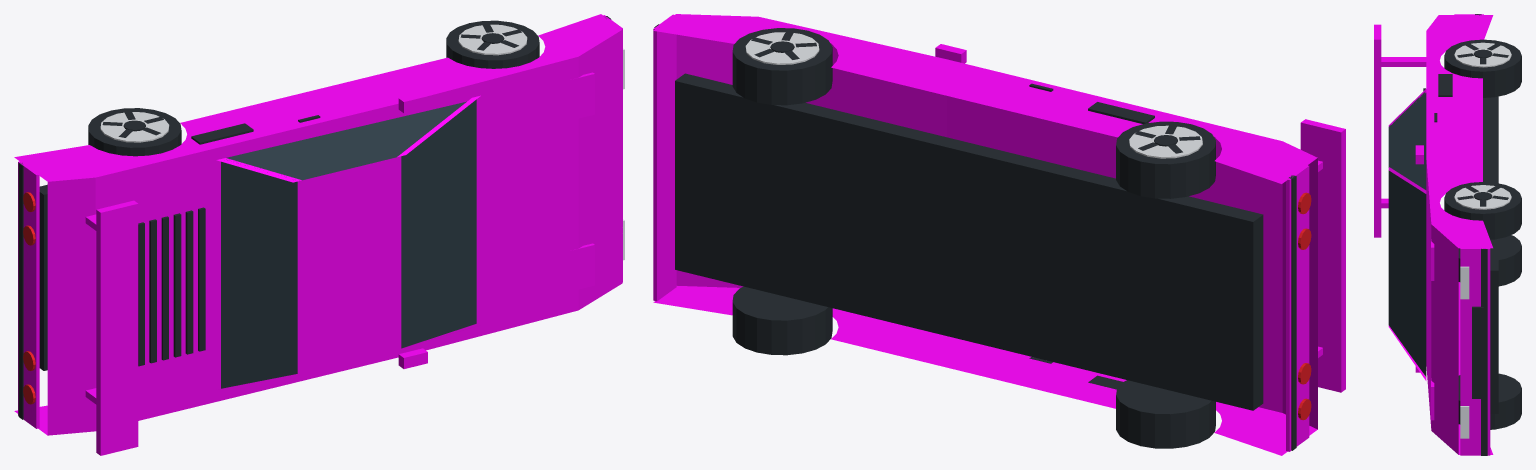
The model's file is sports-turbo.glb.
3 renders of one model, left to right at view 1: azimuth 30°, elevation 25°; view 2: azimuth 150°, elevation 25°; view 3: azimuth 270°, elevation 25°, orthographic. The views are drawn at different scales.
Parts seen in each view (by area): view 1: sports-turbo; view 2: sports-turbo; view 3: sports-turbo.
Part boxes in pixels (x1,y1,x2,y2): sports-turbo: (14,14,624,455); sports-turbo: (653,14,1345,455); sports-turbo: (1374,14,1521,455).
Bounding box in the file's own units: 4.36 × 1.9 × 1.15.
